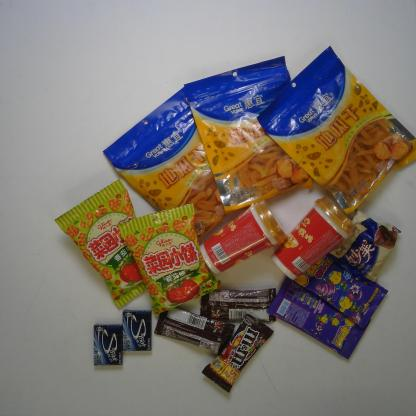Candy: (268, 267, 376, 361), (284, 247, 388, 329)
Chocolate: (201, 315, 274, 392), (153, 303, 234, 357), (200, 285, 277, 324)
Dessert: (332, 212, 402, 286)
Dried Fruit: (257, 45, 416, 218), (102, 84, 272, 244), (185, 56, 318, 212)
Gum: (120, 308, 157, 352), (90, 321, 123, 368)
Instant Drink: (273, 195, 356, 280), (198, 200, 289, 275)
Puffed Food: (54, 179, 176, 313), (117, 202, 218, 314)
